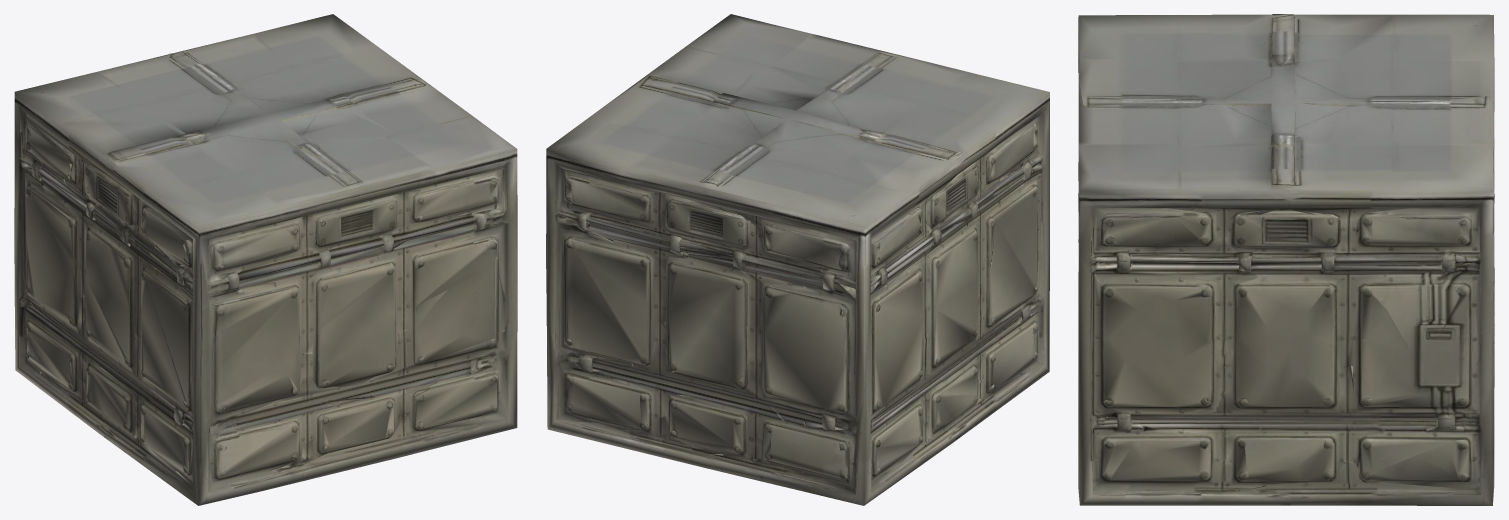
Rendered from Room.glb.
3 views of the same model, side by side, from view 1: azimuth 30°, elevation 25°; view 2: azimuth 150°, elevation 25°; view 3: azimuth 270°, elevation 25° (orthographic). The views are drawn at different scales.
Visible parts, largest first — view 1: Mesh_0; view 2: Mesh_0; view 3: Mesh_0.
Boxes of the visible parts, x1=… form: Mesh_0: x1=14, y1=14, x2=517, y2=505; Mesh_0: x1=546, y1=14, x2=1049, y2=505; Mesh_0: x1=1078, y1=14, x2=1494, y2=505.
Bounding box in the file's own units: 1.91 × 1.62 × 1.91.
1 material, 1 textured.
